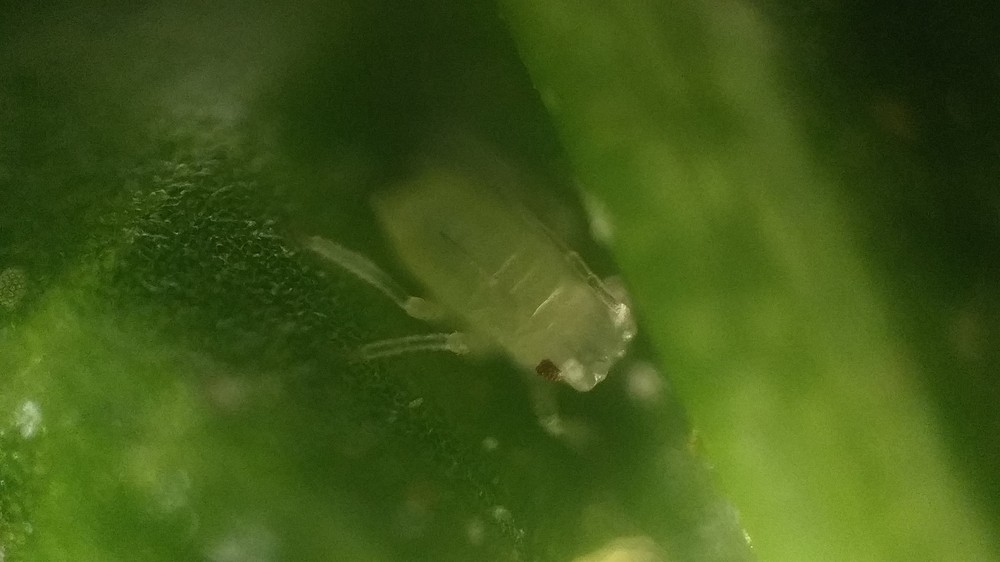Pulgon: (305, 108, 726, 474)
